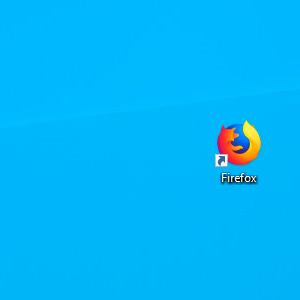firefox: (215, 120, 261, 167)
